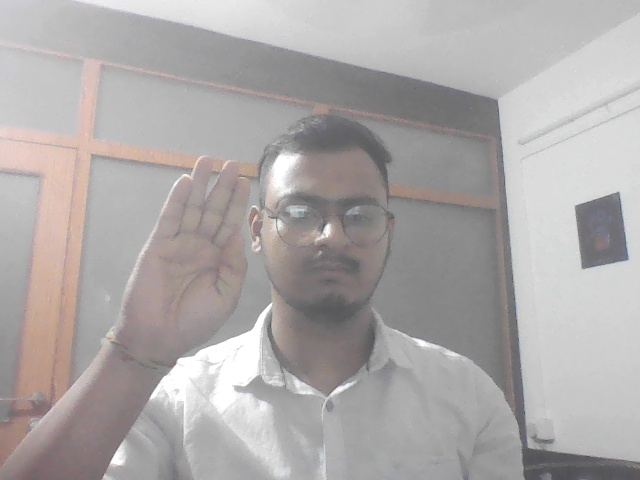Hello: (99, 151, 267, 351)
